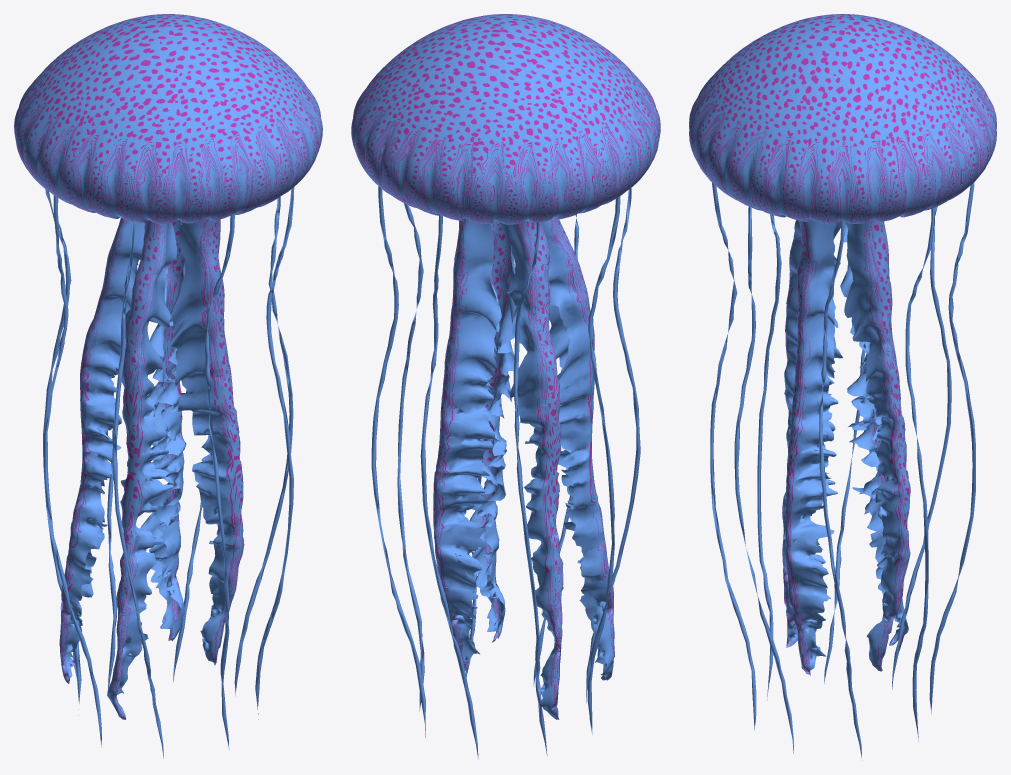
File: jelly_b.glb
3 views of the same model, side by side, from view 1: azimuth 30°, elevation 25°; view 2: azimuth 150°, elevation 25°; view 3: azimuth 270°, elevation 25° (orthographic).
Visible parts, largest first — view 1: decimated; view 2: decimated; view 3: decimated.
Boxes of the visible parts, <box> form: decimated: <box>14,14,322,758</box>; decimated: <box>351,14,660,759</box>; decimated: <box>689,14,996,760</box>.
Size of the model in its own units: 0.9179 by 2.29 by 0.9179.
Materials: 1 (1 with a texture image).
